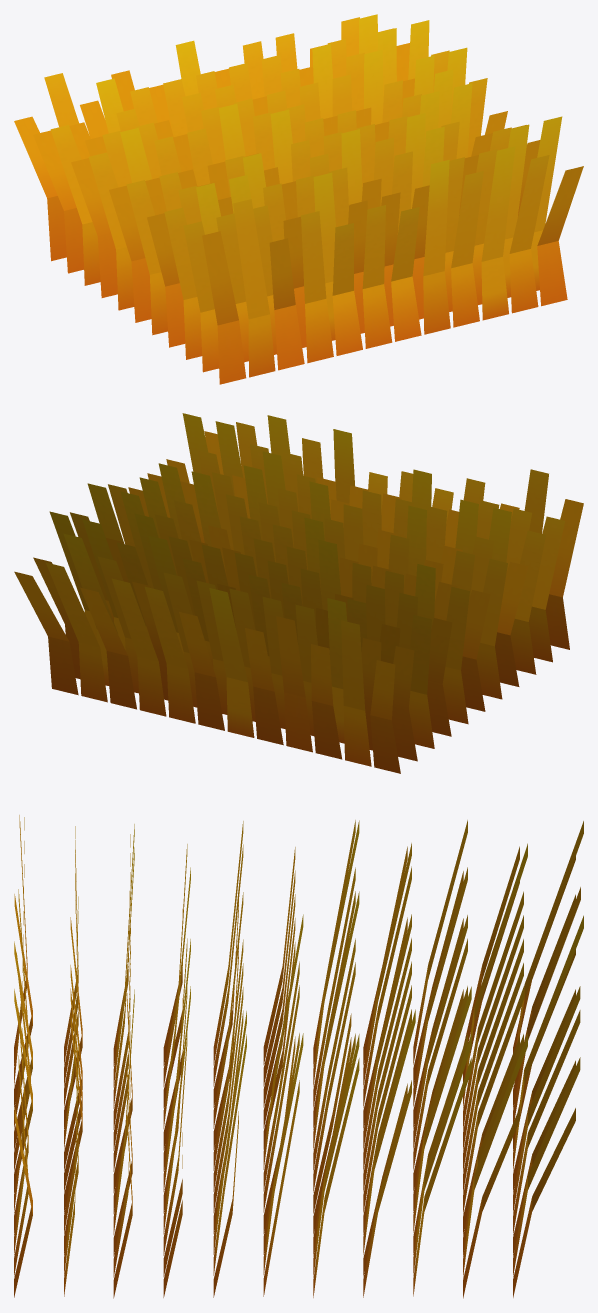
The model's file is block_fields_2_1.fbx.
3 renders of one model, top to bottom at view 1: azimuth 30°, elevation 25°; view 2: azimuth 150°, elevation 25°; view 3: azimuth 270°, elevation 25°, orthographic. The views are drawn at different scales.
Visible parts, largest first — view 1: block_fields_2_1; view 2: block_fields_2_1; view 3: block_fields_2_1.
Part boxes in pixels (box(x1,y1,x2,y2)): block_fields_2_1: box(14, 14, 583, 384); block_fields_2_1: box(14, 413, 583, 773); block_fields_2_1: box(14, 815, 583, 1298).
Size of the model in its own units: 186 by 81.5 by 163.
